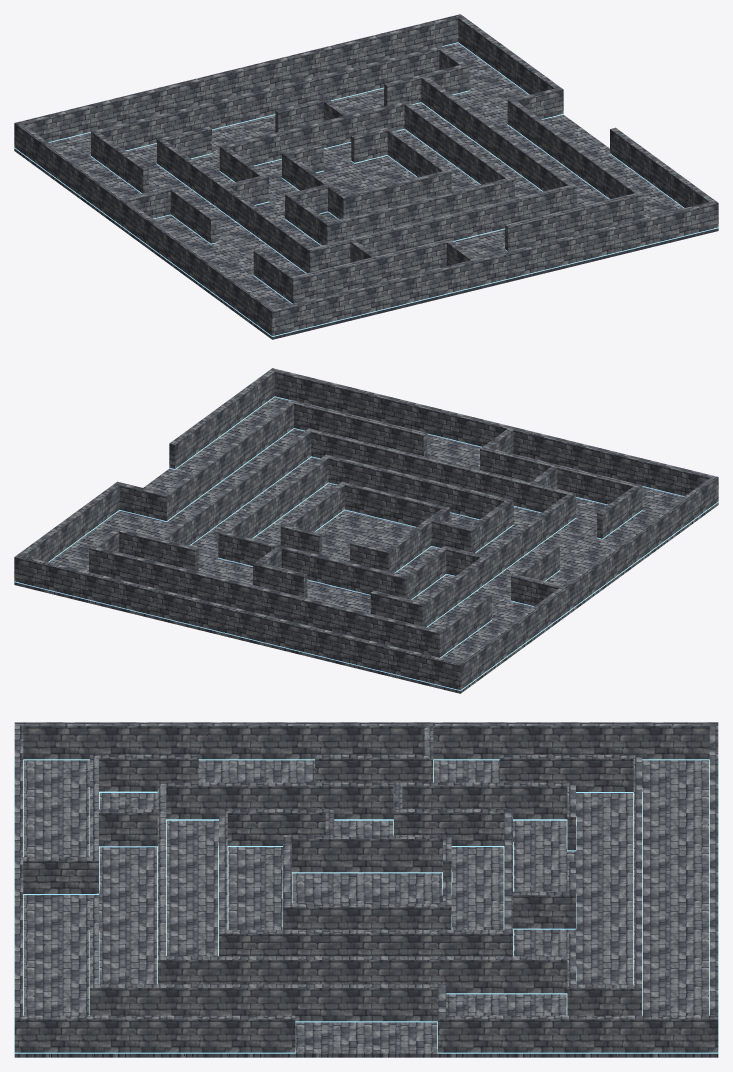
The model's file is platform.glb.
3 views of the same model, one above another, from view 1: azimuth 30°, elevation 25°; view 2: azimuth 150°, elevation 25°; view 3: azimuth 270°, elevation 25° (orthographic). The views are drawn at different scales.
Visible parts, largest first — view 1: Maze, Plane, Ligths; view 2: Maze, Plane, Ligths; view 3: Maze, Plane, Ligths.
Part boxes in pixels (x1,y1,x2,y2): Maze: (14, 14, 718, 336); Plane: (14, 43, 718, 339); Ligths: (14, 42, 718, 336); Maze: (14, 368, 718, 690); Plane: (14, 397, 718, 693); Ligths: (14, 396, 718, 690); Maze: (14, 722, 718, 1052); Plane: (14, 760, 718, 1057); Ligths: (14, 756, 718, 1053).
Size of what is drawn, in the model's own units: 31.04 by 1.86 by 31.12.
2 materials, 2 textured.
